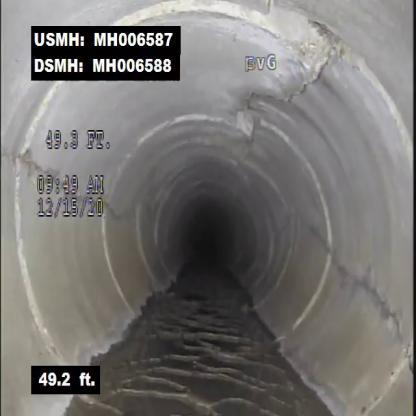Buckling: (247, 7, 371, 117)
